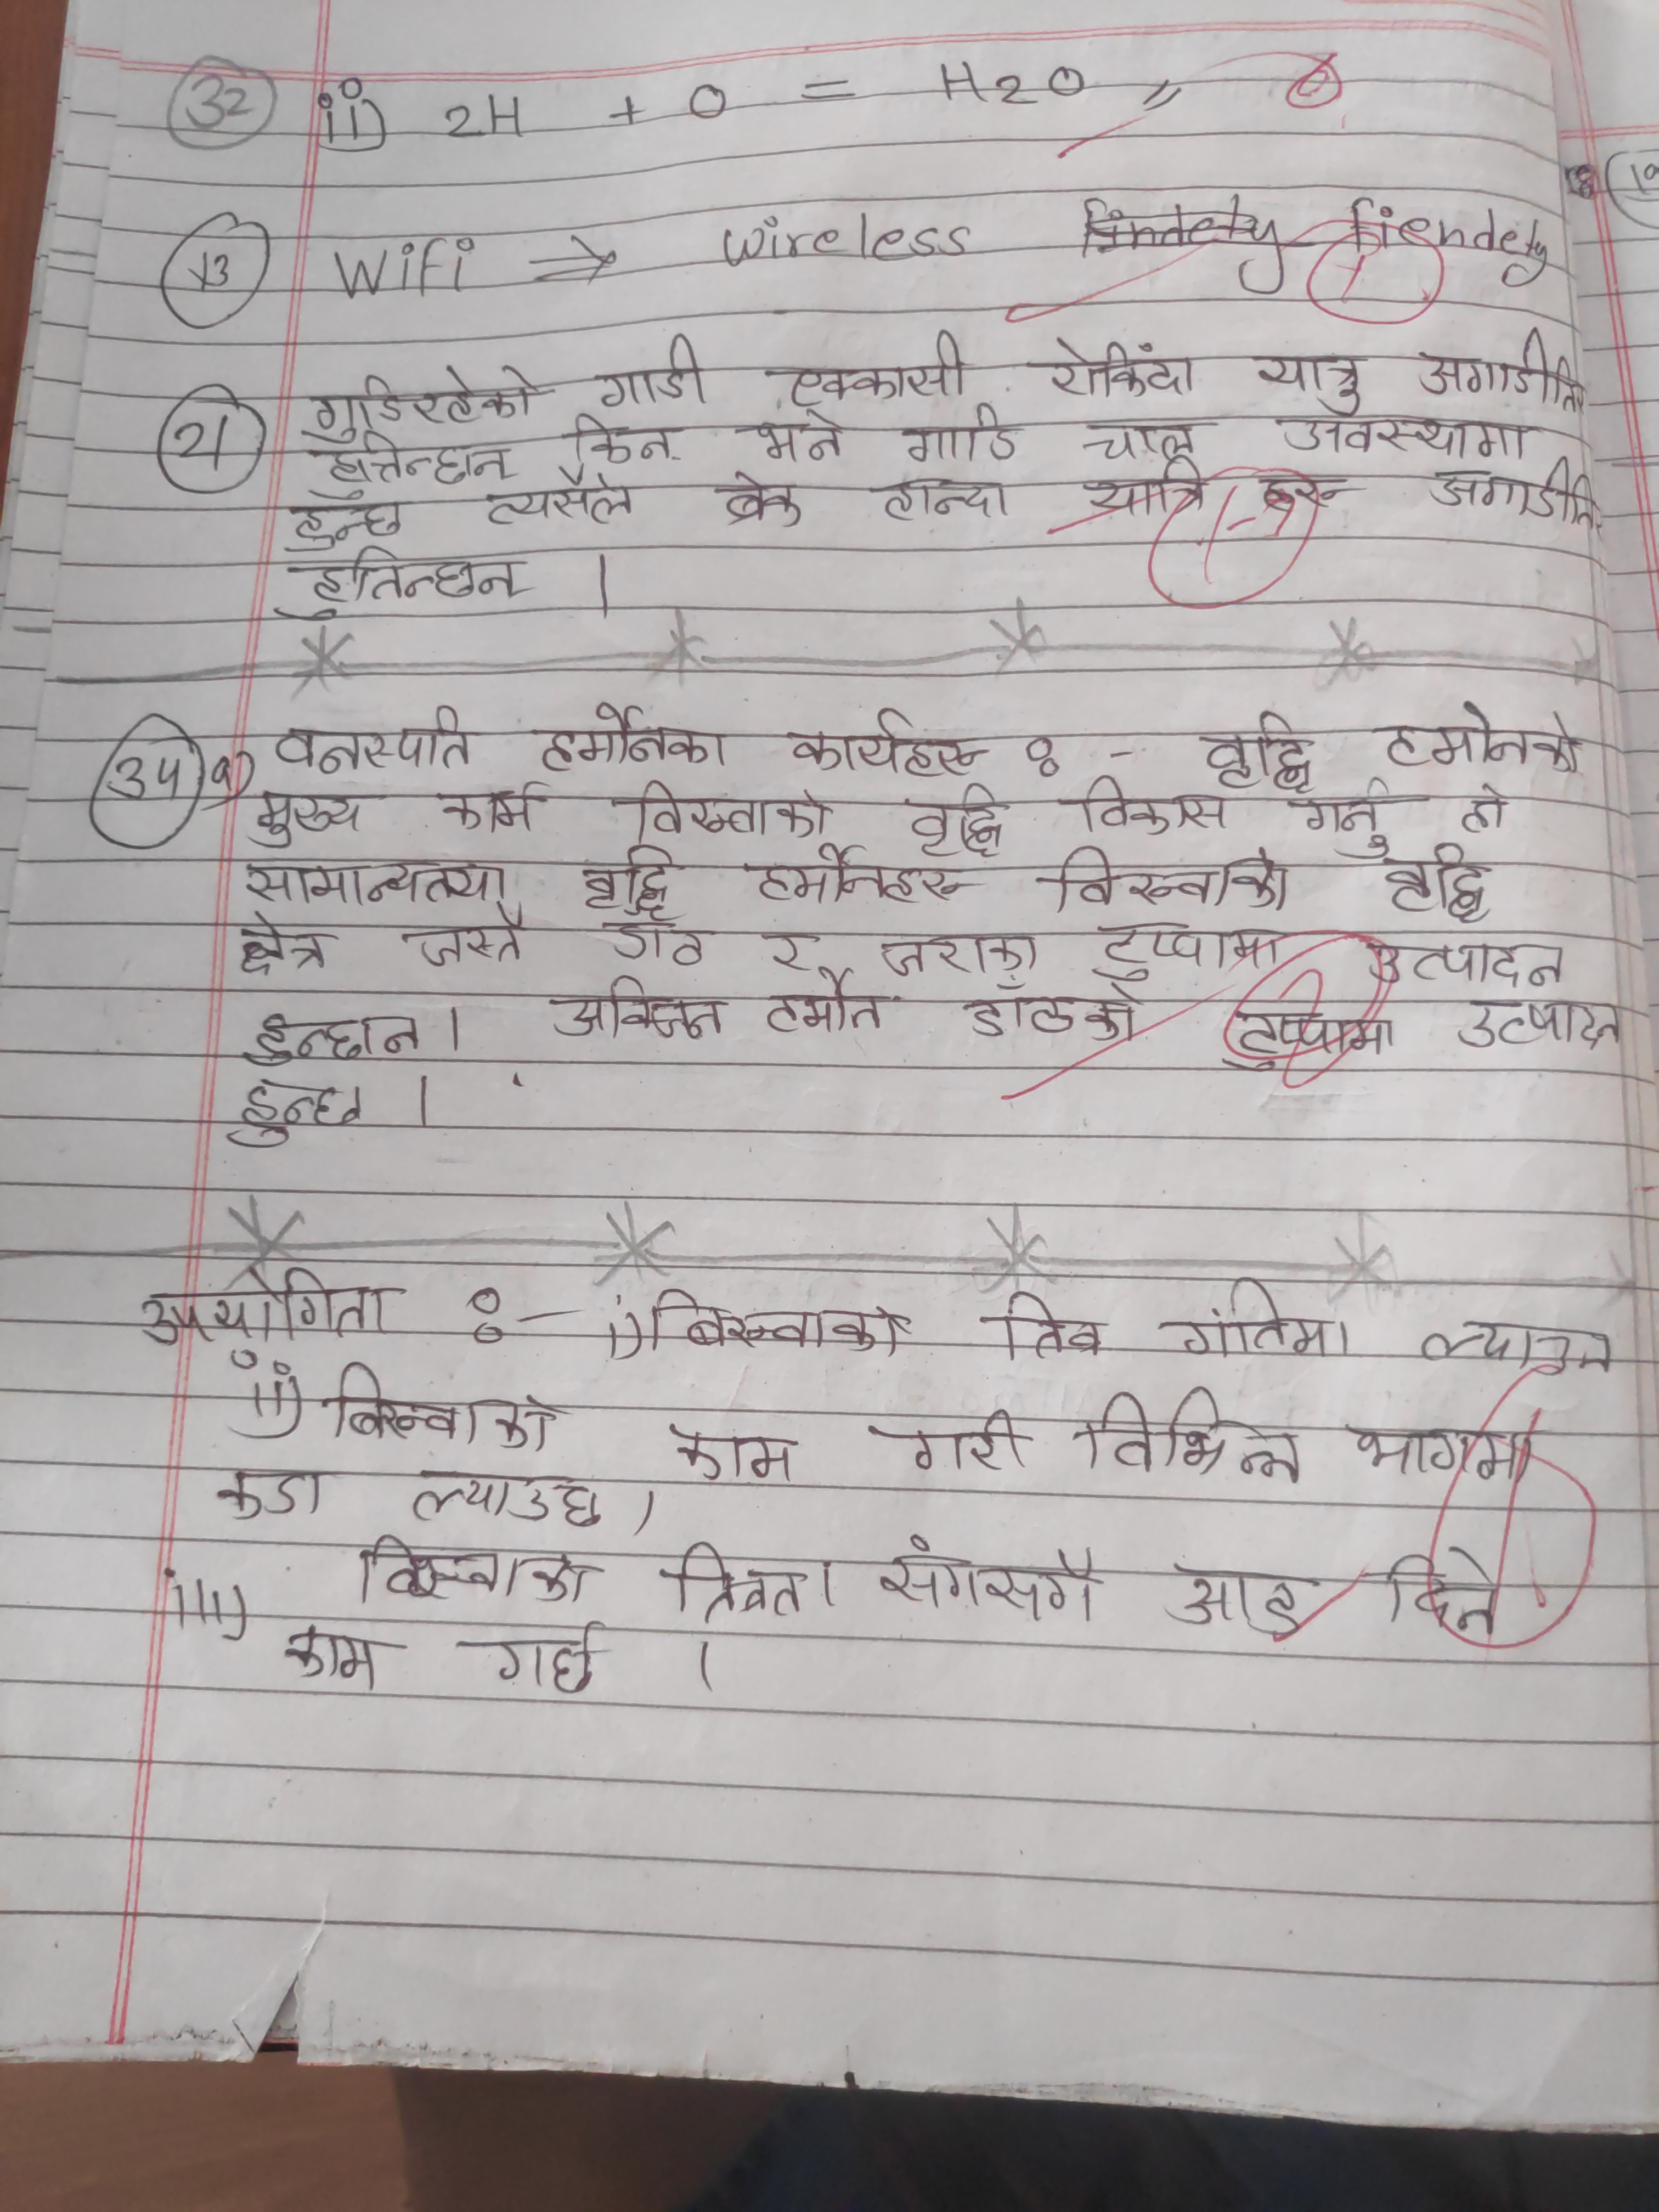text: (136, 1271, 401, 1367), (317, 1357, 563, 1456), (1077, 1385, 1309, 1489), (882, 1536, 1110, 1625), (645, 1285, 908, 1362), (354, 1529, 599, 1604), (1276, 395, 1539, 465), (305, 368, 552, 439), (235, 846, 514, 906), (1164, 1280, 1354, 1366), (268, 704, 479, 780), (1380, 697, 1591, 773), (1042, 846, 1295, 909), (396, 1460, 599, 1536), (779, 333, 981, 409), (1417, 326, 1591, 415), (537, 700, 730, 773), (795, 711, 985, 782), (1419, 1317, 1626, 1381), (620, 779, 835, 840), (967, 975, 1143, 1049), (755, 846, 978, 904), (547, 972, 725, 1043), (1361, 928, 1568, 989), (240, 1000, 429, 1066), (1349, 1420, 1546, 1482), (1377, 1550, 1504, 1646), (1098, 916, 1286, 981), (1061, 772, 1237, 840), (1422, 456, 1601, 523), (450, 1623, 613, 1695), (1450, 991, 1629, 1055), (664, 1543, 807, 1622), (1166, 1564, 1309, 1642), (751, 972, 897, 1042), (1046, 333, 1201, 397), (660, 1414, 803, 1484), (319, 432, 516, 482), (878, 1407, 1030, 1472), (1201, 707, 1317, 791), (230, 1075, 366, 1146), (592, 334, 716, 413), (875, 921, 1044, 975), (1377, 846, 1495, 921), (477, 475, 636, 531), (284, 1623, 401, 1698), (988, 1292, 1110, 1362), (399, 911, 530, 975), (206, 1463, 331, 1529), (901, 787, 1012, 860), (230, 906, 340, 979), (1246, 345, 1368, 409), (579, 841, 678, 920), (281, 493, 410, 550), (601, 909, 723, 968), (561, 413, 690, 469), (1295, 791, 1398, 859), (1082, 463, 1211, 516), (878, 475, 1016, 524), (894, 418, 1025, 469), (1075, 409, 1201, 462), (246, 791, 366, 845), (756, 408, 856, 467), (721, 467, 809, 528), (441, 786, 547, 833), (756, 918, 824, 975), (1459, 782, 1509, 834)
